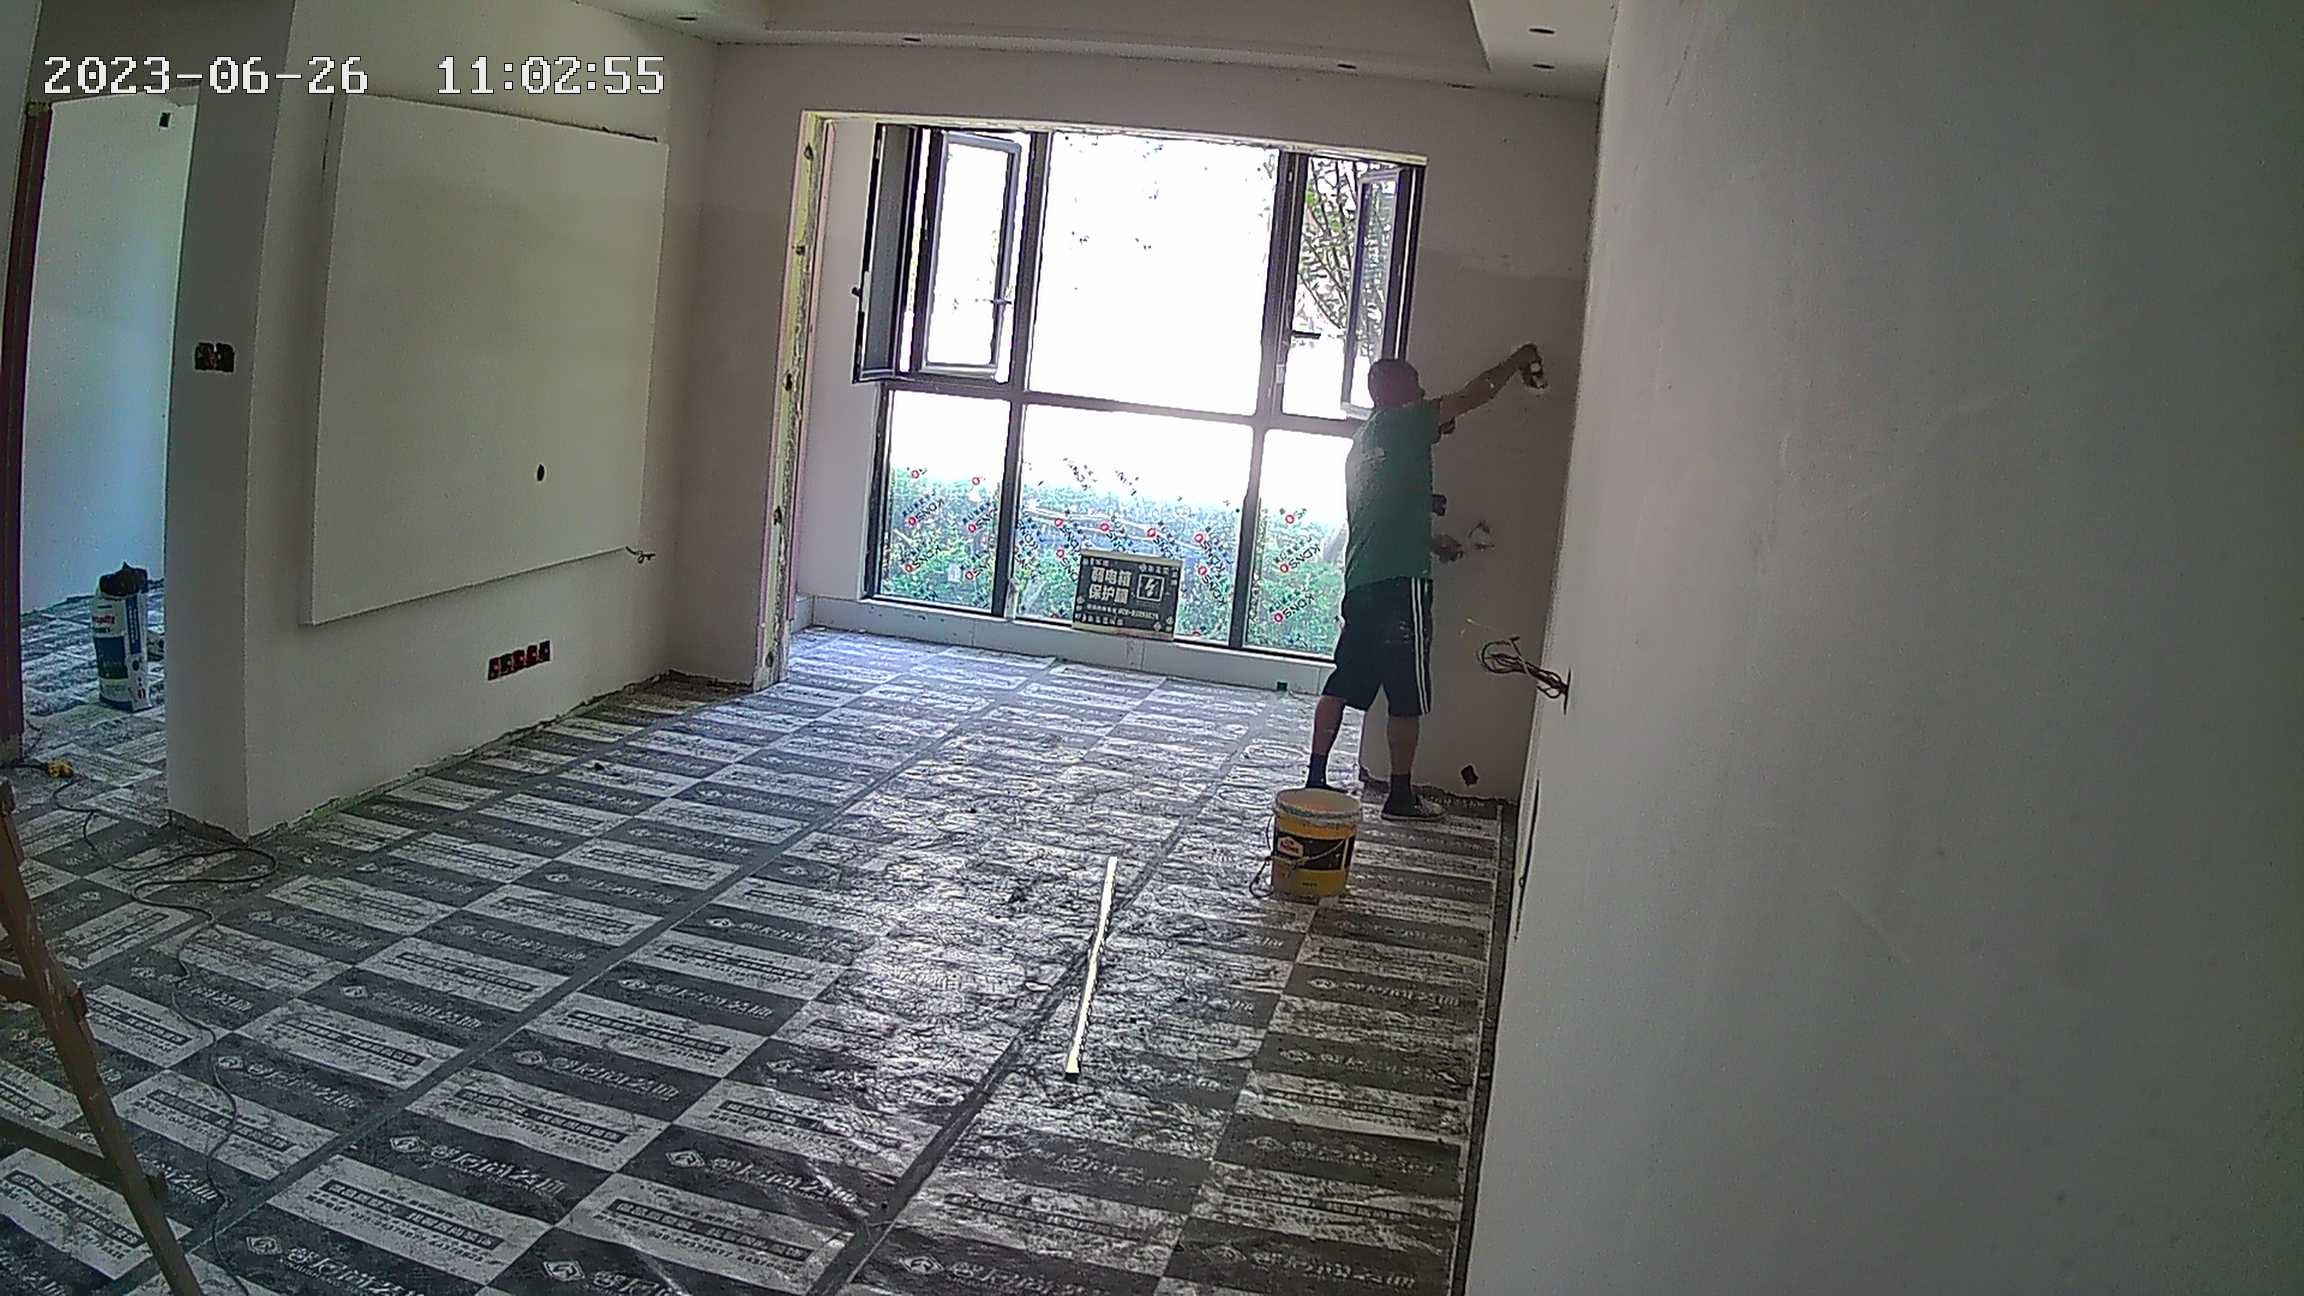people: (1303, 348, 1543, 826)
window: (869, 113, 1402, 673)
